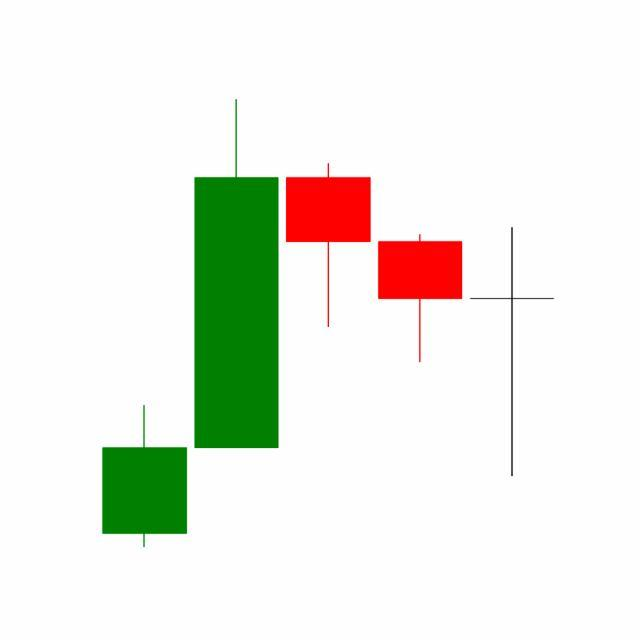Spinning Top: (466, 224, 559, 480)
